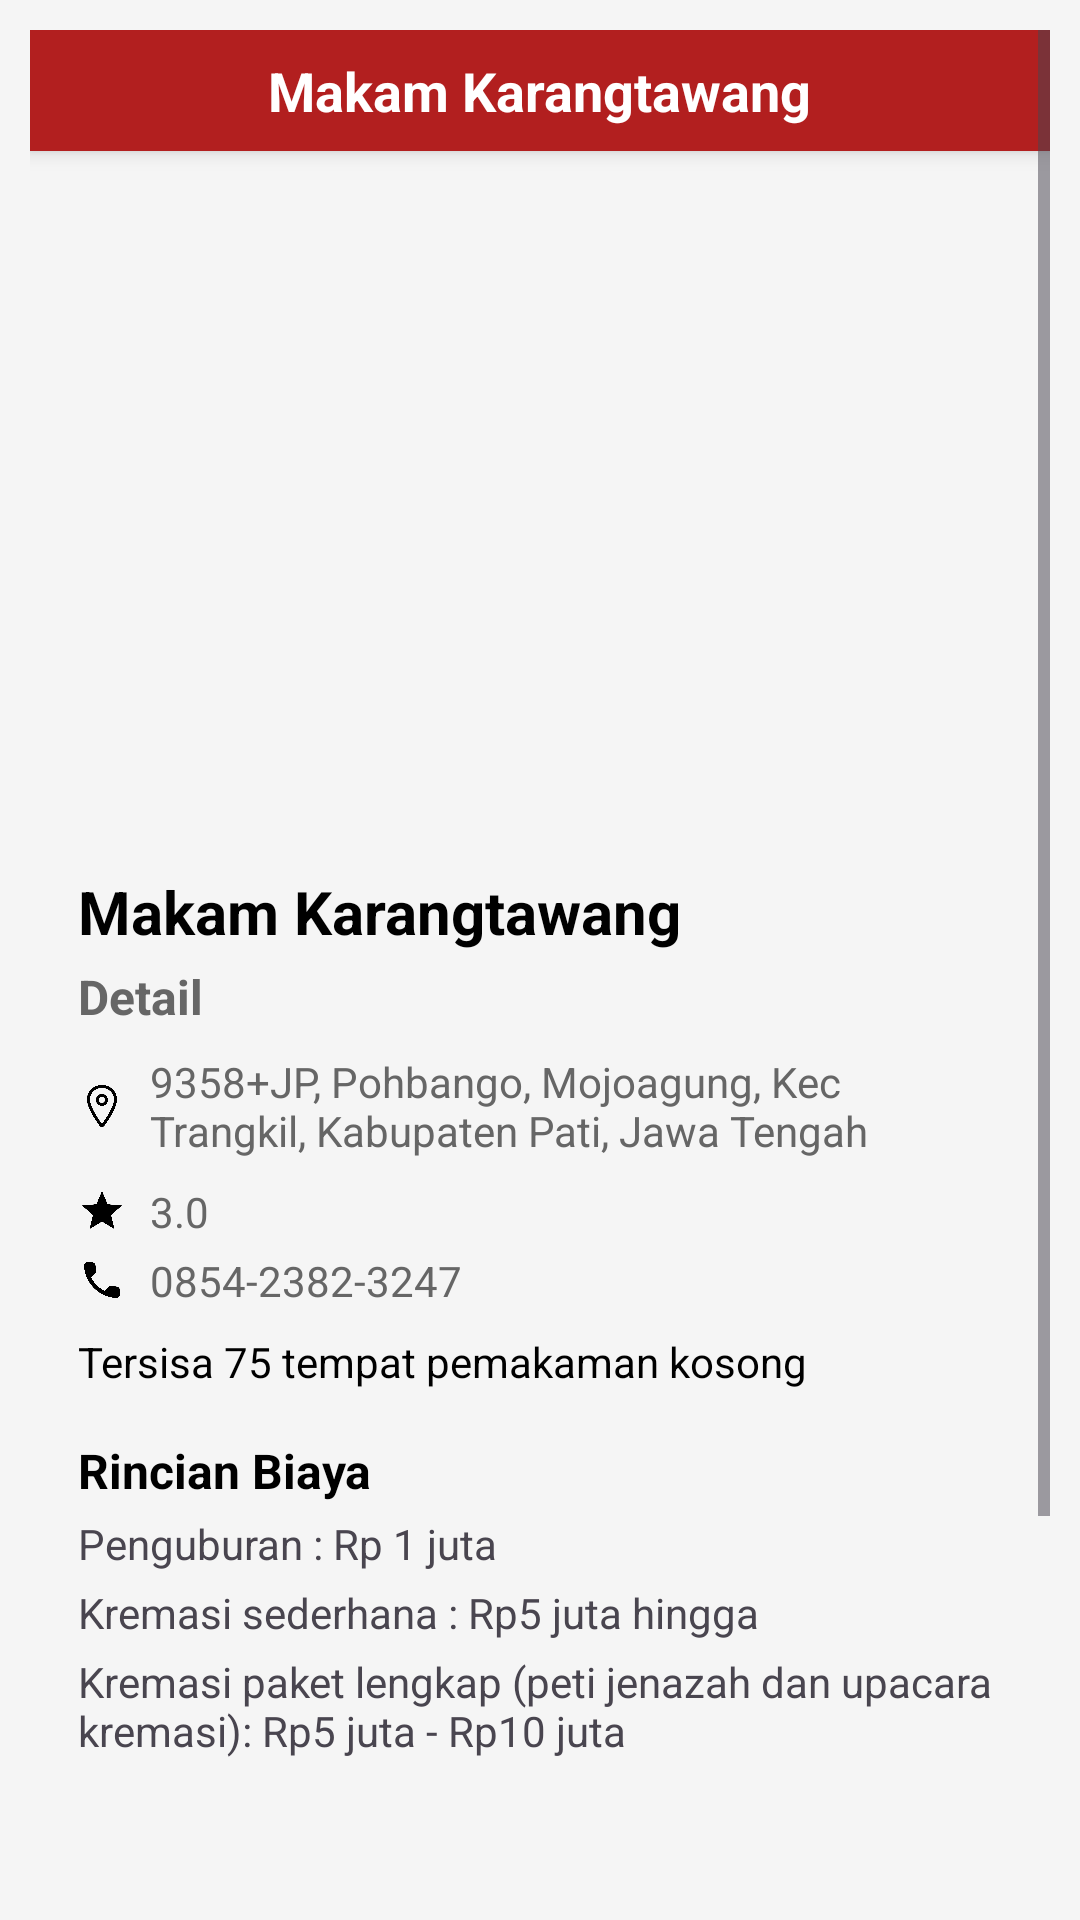

Icon click points for this 1080px×1920px phone screenshot, format [x,y]:
iclocation: [102,1106]
icphone: [102,1280]
icstar: [102,1210]
